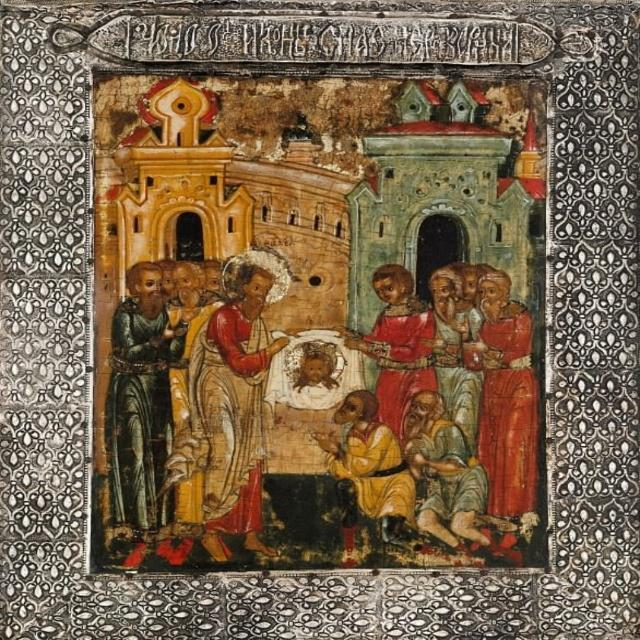christ_face: (281, 340, 352, 391)
cloth: (266, 324, 374, 406)
person: (478, 273, 542, 521), (396, 383, 488, 551), (319, 393, 419, 535), (111, 262, 164, 524), (365, 264, 439, 406), (434, 270, 481, 419), (166, 261, 204, 442)
saint: (190, 245, 292, 561)
tower: (520, 95, 546, 197)
